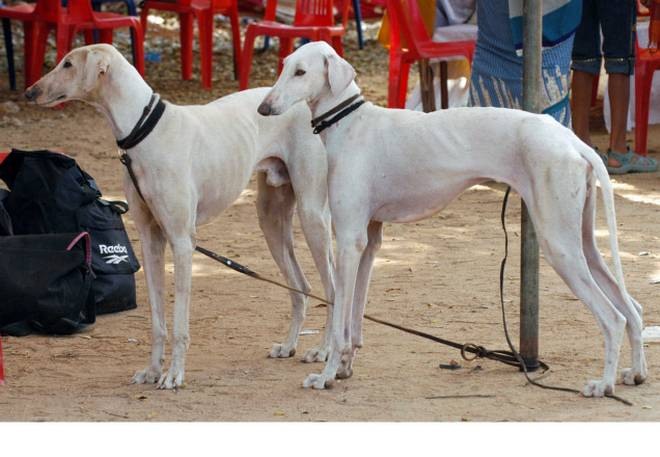dog: (260, 38, 650, 399), (24, 44, 341, 392)
